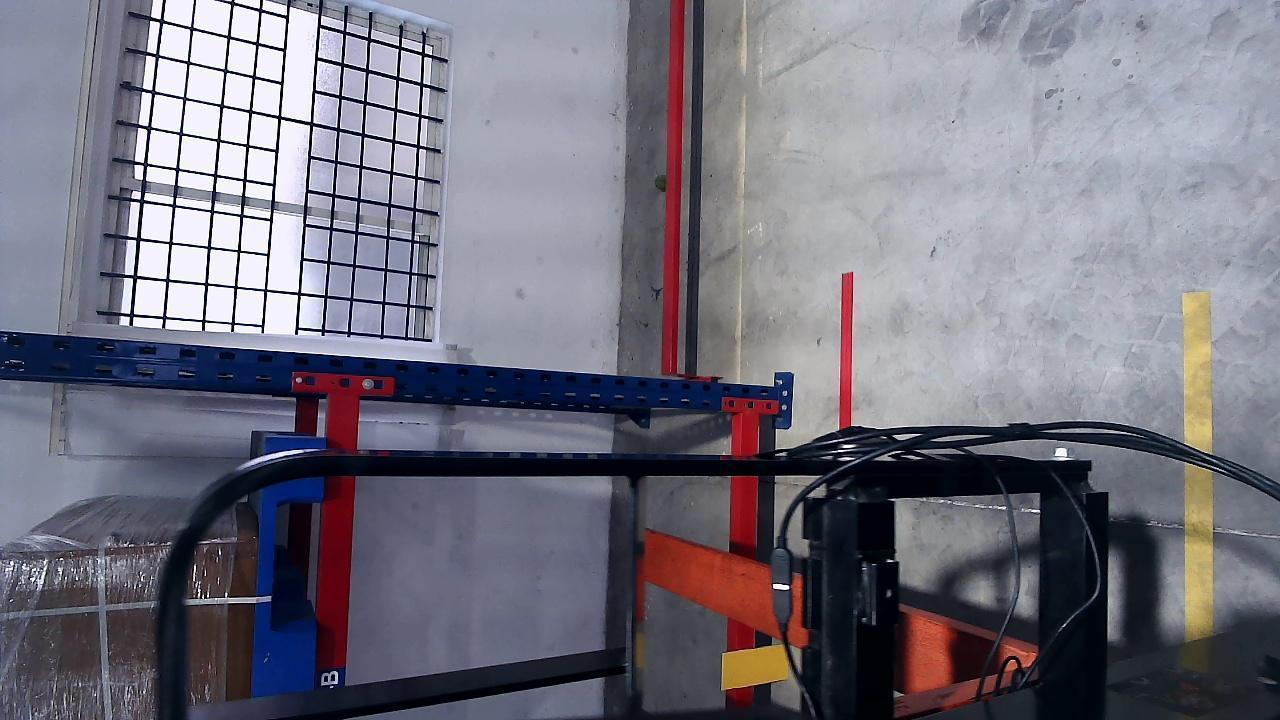red_line: (838, 272, 855, 427)
yellow_line: (1182, 292, 1215, 643)
